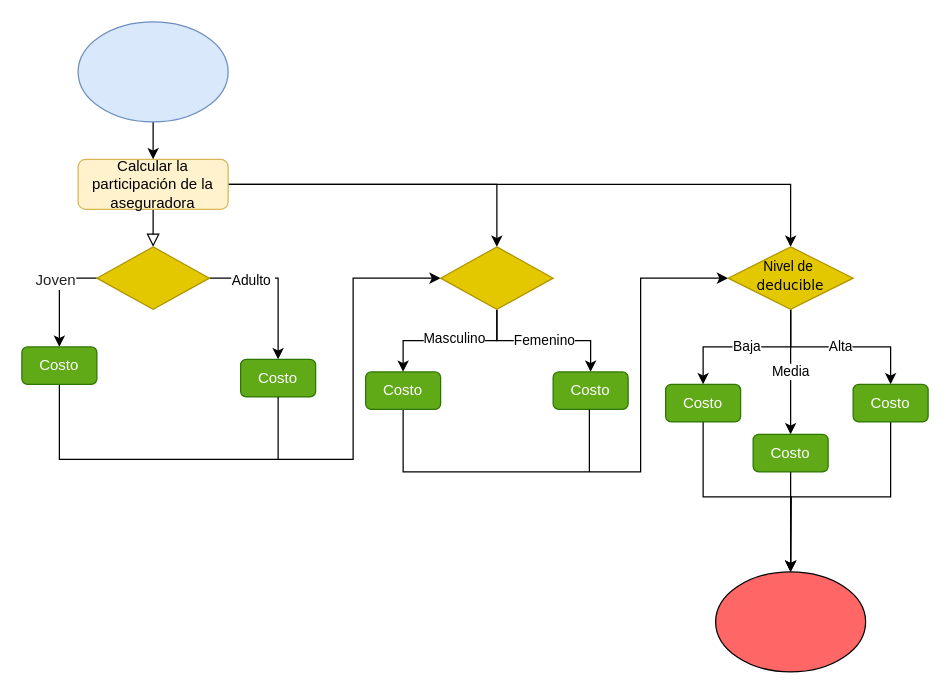
Image size: 950x694. Some labels were removed from this diagram. Here are the shapes that lost their labels. From the top down, the centre of each, then its label:
At point 152,71: "Inicio- Seguro de Gastos Medicos".
At point 152,277: "Edad".
At point 496,277: "Sexo".
At point 790,621: "Monto de participación".
